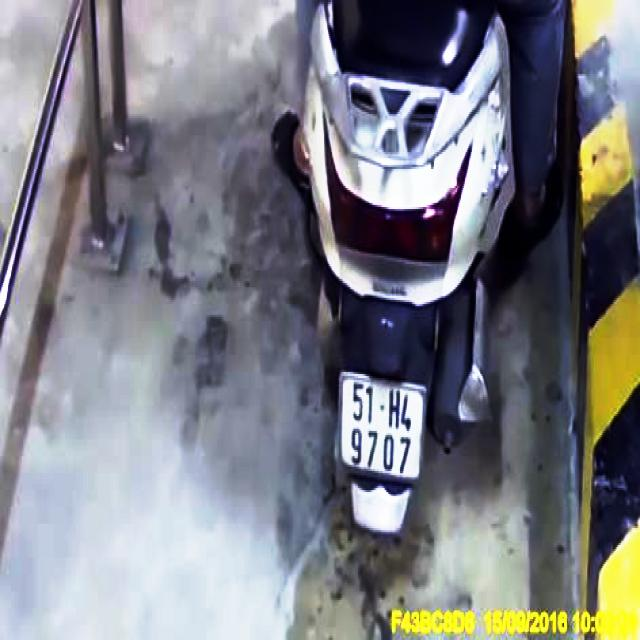license_plate: (335, 376, 428, 484)
